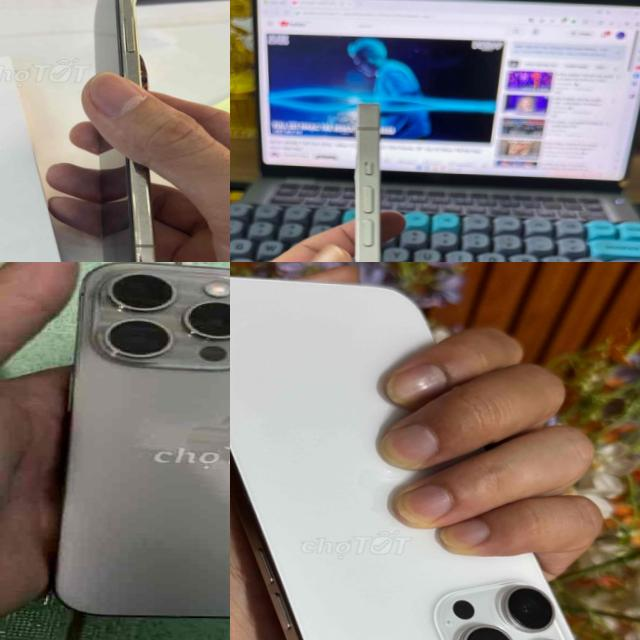gen_12_13: (330, 95, 431, 262)
gen_15: (50, 262, 230, 640)
gen_16: (230, 277, 573, 640)
gen_17: (75, 0, 172, 262)
